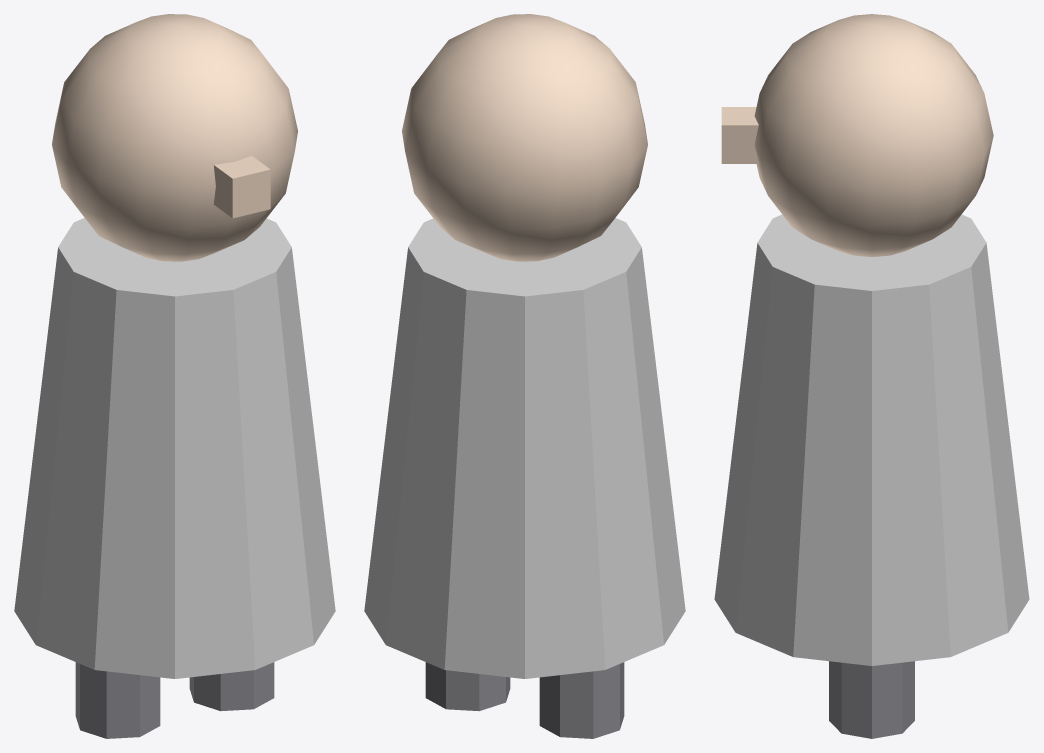
File: colonist.glb
3 views of the same model, side by side, from view 1: azimuth 30°, elevation 25°; view 2: azimuth 150°, elevation 25°; view 3: azimuth 270°, elevation 25° (orthographic). The views are drawn at different scales.
Parts seen in each view (by area): view 1: body, head, leg-0.09, leg0.09, nose; view 2: body, head, leg-0.09, leg0.09; view 3: body, head, leg0.09, nose.
Part boxes in pixels (x1,y1,x2,y2): body: (14,218,335,678); head: (52,14,297,261); leg-0.09: (75,662,160,738); leg0.09: (189,662,274,711); nose: (213,155,270,218); body: (364,218,685,678); head: (402,14,647,261); leg-0.09: (539,662,624,738); leg0.09: (425,662,510,711); body: (714,214,1029,665); head: (754,14,993,256); leg0.09: (829,661,914,738); nose: (721,107,758,163).
Bounding box in the file's own units: 0.44 × 1.03 × 0.44.
